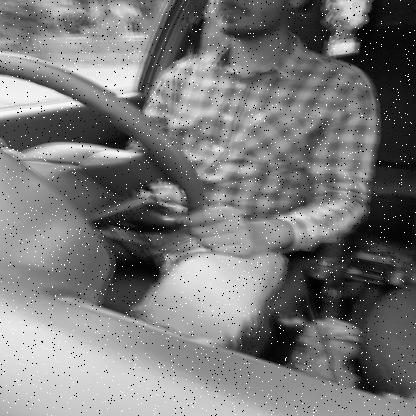no_seatbelt: (144, 0, 312, 169)
